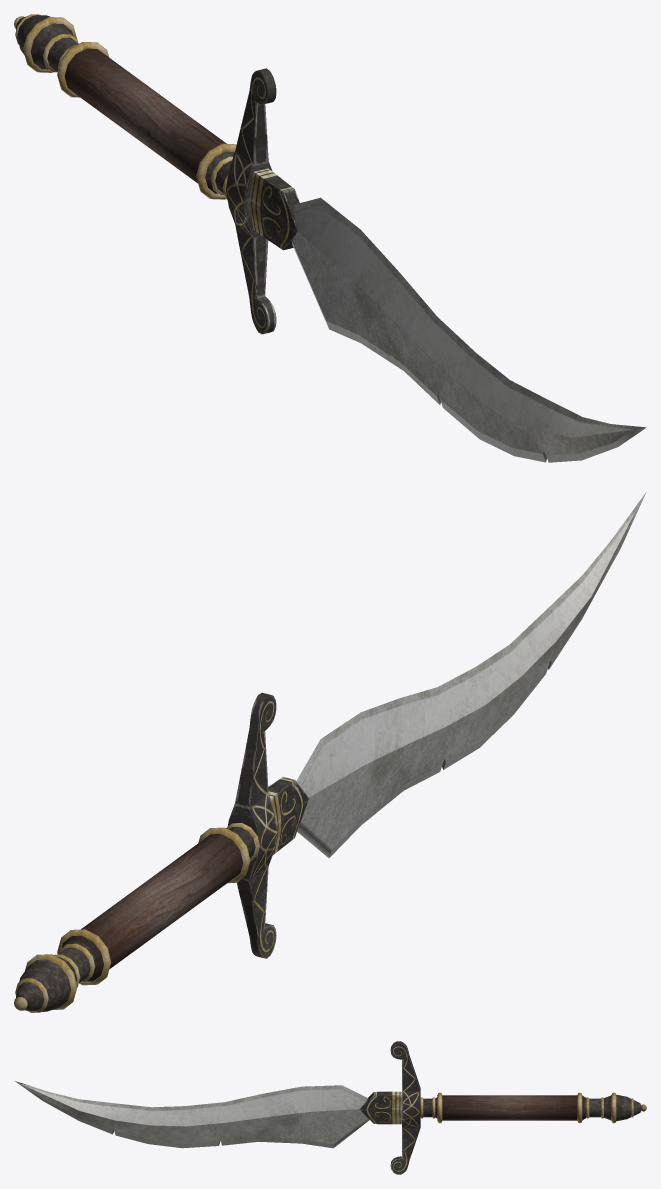
File: awesome dagger.FBX
3 views of the same model, one above another, from view 1: azimuth 30°, elevation 25°; view 2: azimuth 150°, elevation 25°; view 3: azimuth 270°, elevation 25° (orthographic). The views are drawn at different scales.
Visible parts, largest first — view 1: DAGGER; view 2: DAGGER; view 3: DAGGER.
Part boxes in pixels (x1,y1,x2,y2): DAGGER: (14, 14, 646, 462); DAGGER: (14, 492, 646, 1012); DAGGER: (15, 1041, 646, 1174).
Bounding box in the file's own units: 9.82 × 46.04 × 201.
